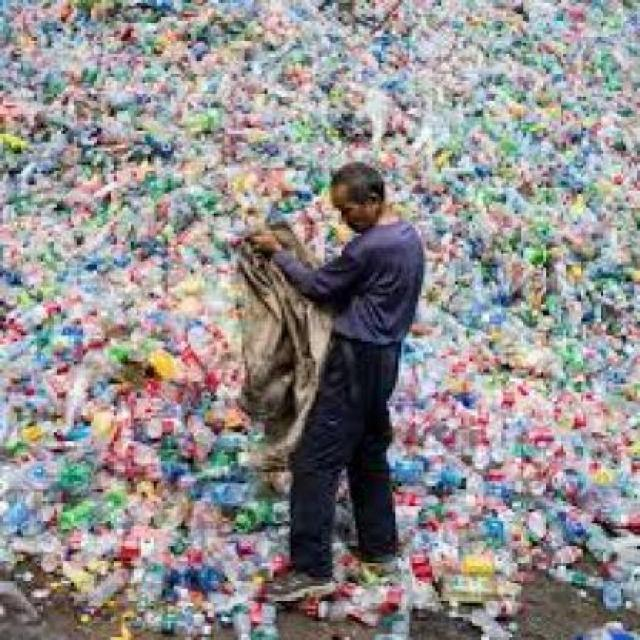garbage: (6, 10, 228, 593), (427, 37, 626, 583), (194, 23, 623, 146)
